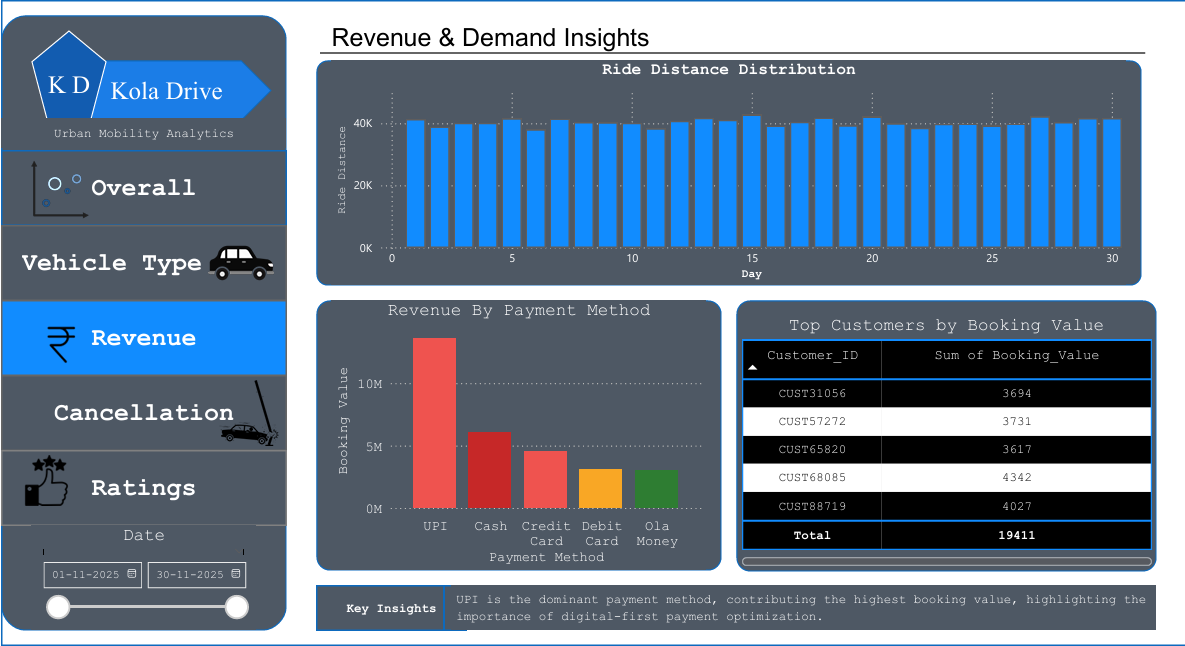

Layout of this report page (visuals, bound fields, positions):
{"tool":"powerbi","page":{"name":"Revenue ","canvas":[1280,720],"ordinal":3},"visuals":[{"type":"shape","box":[0,0,1280,720],"z":0},{"type":"shape","box":[0,16,1264,688],"z":1000},{"type":"shape","box":[0,32,304,656],"z":2000},{"type":"shape","box":[96,80,192,64],"z":3000},{"type":"shape","box":[32,48,80,96],"z":4000},{"type":"shape","box":[0,176,304,80],"z":5000},{"type":"shape","box":[0,142.2,304,32],"z":6000},{"type":"shape","box":[0,256,304,80],"z":7000},{"type":"shape","box":[0,336,304,80],"z":8000},{"type":"shape","box":[0,416,304,80],"z":9000},{"type":"shape","box":[0,496,304,80],"z":10000},{"type":"image","box":[0,496,96,64],"z":11000},{"type":"image","box":[224,416,80,80],"z":12000},{"type":"image","box":[32,352,64,64],"z":13000},{"type":"image","box":[208,256,96,80],"z":14000},{"type":"image","box":[16,176,96,80],"z":15000},{"type":"shape","box":[339.7,55.7,880,32],"z":16000},{"type":"shape","box":[339.7,39.7,880,32],"z":17000},{"type":"slicer","title":"Date","fields":{"Values":["ola_bookings.Date"]},"box":[32,576,240,112],"z":18000},{"type":"shape","box":[340.3,86.3,880,288],"z":19000},{"type":"clusteredColumnChart","title":"Ride Distance Distribution","fields":{"Y":["Sum(ola_bookings.Ride_Distance)"],"Category":["ola_bookings.Date.Variation.Date Hierarchy.Day"]},"box":[356.3,86.3,848,288],"z":20000},{"type":"shape","box":[341.4,400.6,432,272],"z":21000},{"type":"shape","box":[789.4,400.6,432,272],"z":22000},{"type":"clusteredColumnChart","title":"Revenue By Payment Method","fields":{"Y":["Sum(ola_bookings.Booking_Value)"],"Category":["ola_bookings.Payment_Method"]},"box":[357.4,400.6,400,272],"z":23000},{"type":"tableEx","title":"Top Customers by Booking Value","fields":{"Values":["ola_bookings.Customer_ID","Sum(ola_bookings.Booking_Value)"]},"box":[805.4,416.6,400,256],"z":24000}]}

Visuals, with their boxes on the page's 1280x720 design canvas (x1, y1, x2, y2). These are canvas units, not pixel positions in the 1185x646 screenshot, which may show the page scaled, cropped or inside an application window:
shape: x1=0 y1=0 x2=1280 y2=720
shape: x1=0 y1=16 x2=1264 y2=704
shape: x1=0 y1=32 x2=304 y2=688
shape: x1=96 y1=80 x2=288 y2=144
shape: x1=32 y1=48 x2=112 y2=144
shape: x1=0 y1=176 x2=304 y2=256
shape: x1=0 y1=142 x2=304 y2=174
shape: x1=0 y1=256 x2=304 y2=336
shape: x1=0 y1=336 x2=304 y2=416
shape: x1=0 y1=416 x2=304 y2=496
shape: x1=0 y1=496 x2=304 y2=576
image: x1=0 y1=496 x2=96 y2=560
image: x1=224 y1=416 x2=304 y2=496
image: x1=32 y1=352 x2=96 y2=416
image: x1=208 y1=256 x2=304 y2=336
image: x1=16 y1=176 x2=112 y2=256
shape: x1=340 y1=56 x2=1220 y2=88
shape: x1=340 y1=40 x2=1220 y2=72
"Date" slicer: x1=32 y1=576 x2=272 y2=688
shape: x1=340 y1=86 x2=1220 y2=374
"Ride Distance Distribution" clusteredColumnChart: x1=356 y1=86 x2=1204 y2=374
shape: x1=341 y1=401 x2=773 y2=673
shape: x1=789 y1=401 x2=1221 y2=673
"Revenue By Payment Method" clusteredColumnChart: x1=357 y1=401 x2=757 y2=673
"Top Customers by Booking Value" tableEx: x1=805 y1=417 x2=1205 y2=673
